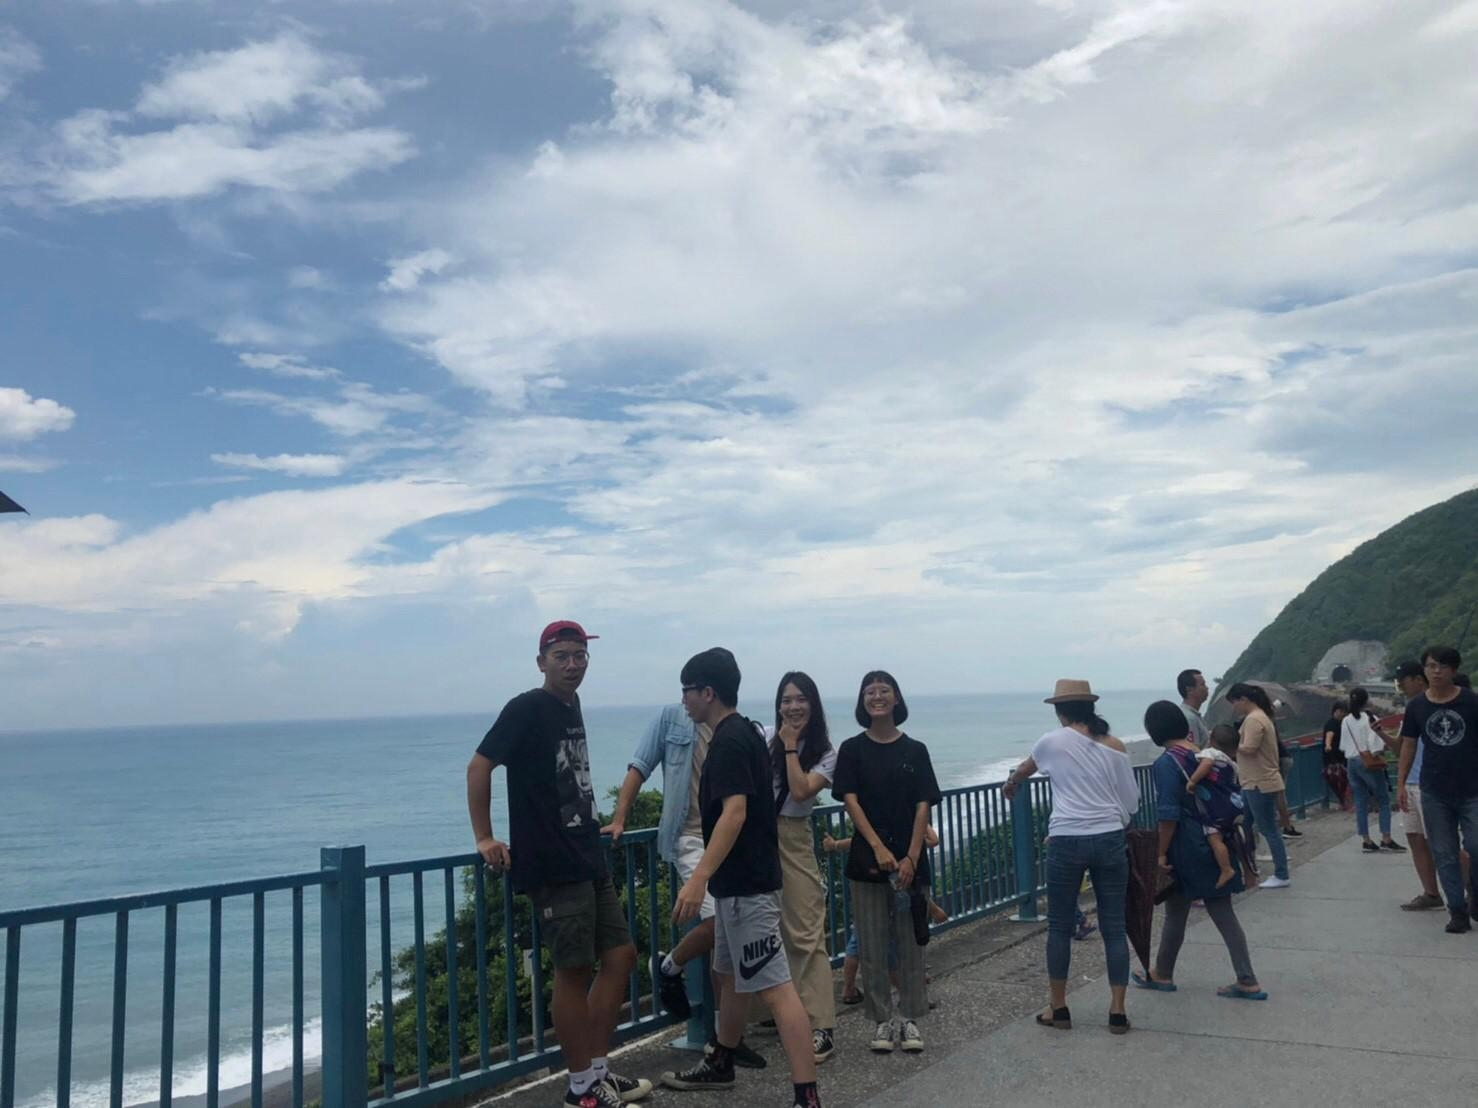people: (500, 623, 652, 1108), (677, 669, 817, 1102), (829, 661, 942, 1027), (1138, 705, 1273, 1000), (1036, 675, 1142, 1032), (763, 669, 846, 1038), (1408, 644, 1478, 934), (1221, 684, 1296, 892), (1171, 669, 1236, 859), (1344, 692, 1408, 859), (1323, 705, 1356, 813)
